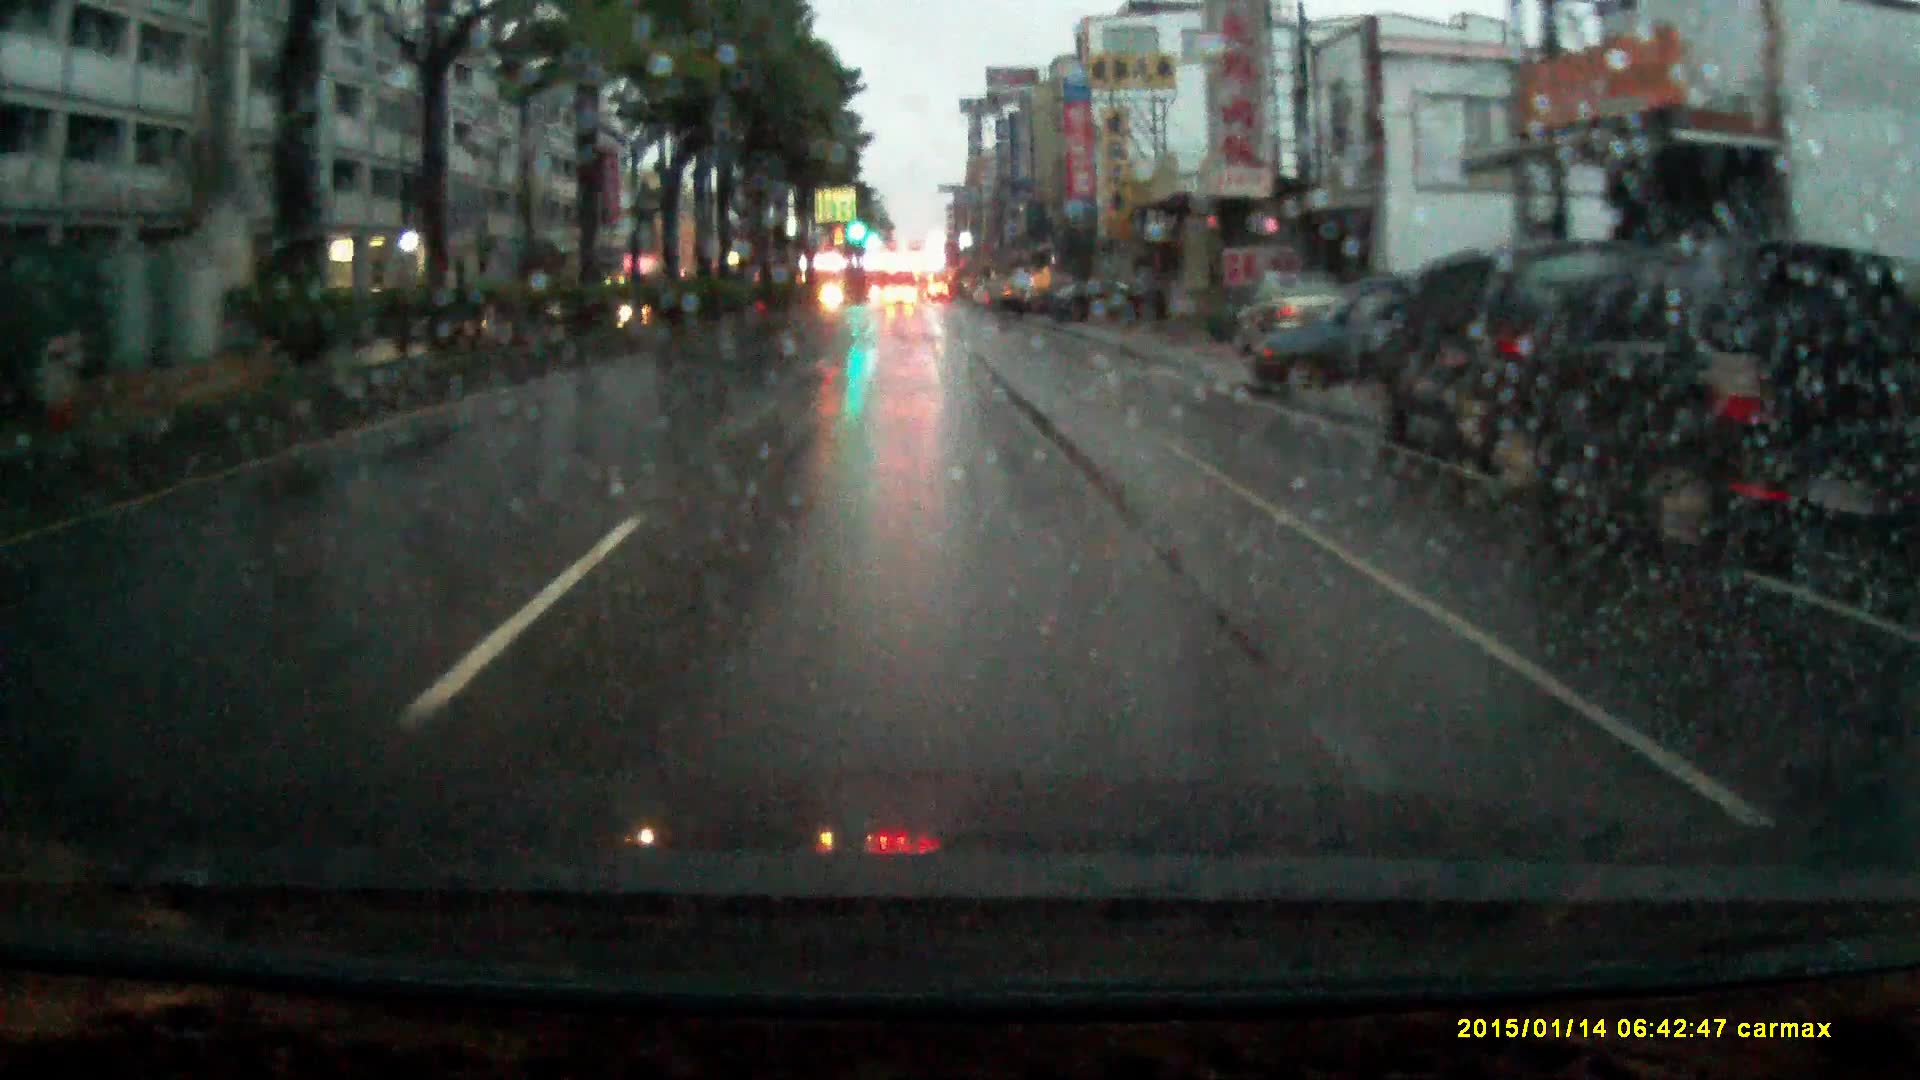vehicle: (1528, 237, 1895, 608), (1356, 249, 1718, 488), (1240, 287, 1478, 404), (1232, 278, 1352, 369), (986, 280, 1031, 319), (886, 289, 918, 313)
